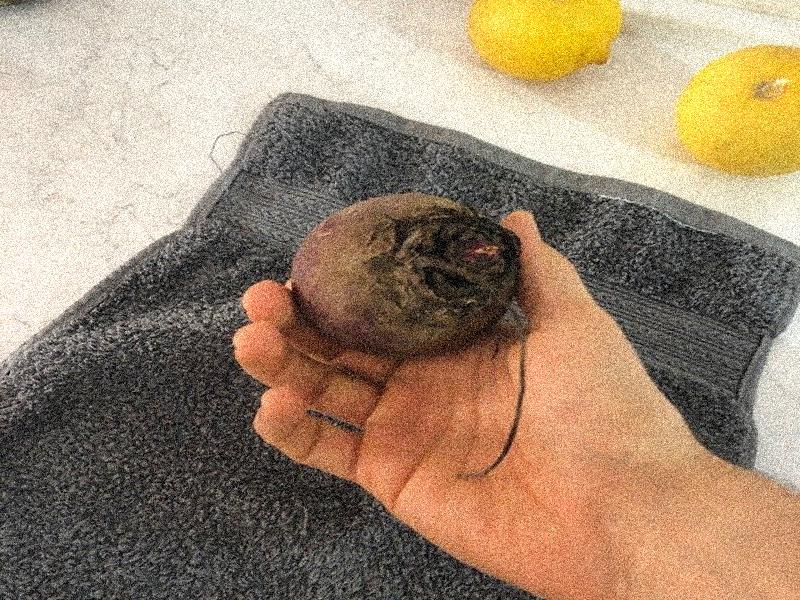Beet: (288, 192, 519, 478)
